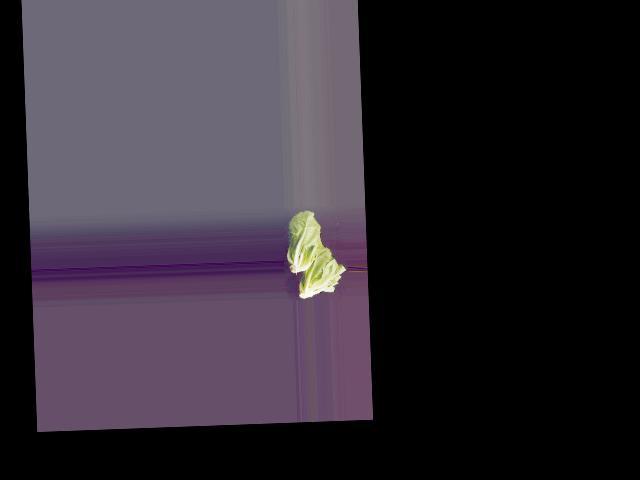lettuce: (290, 236, 345, 299)
